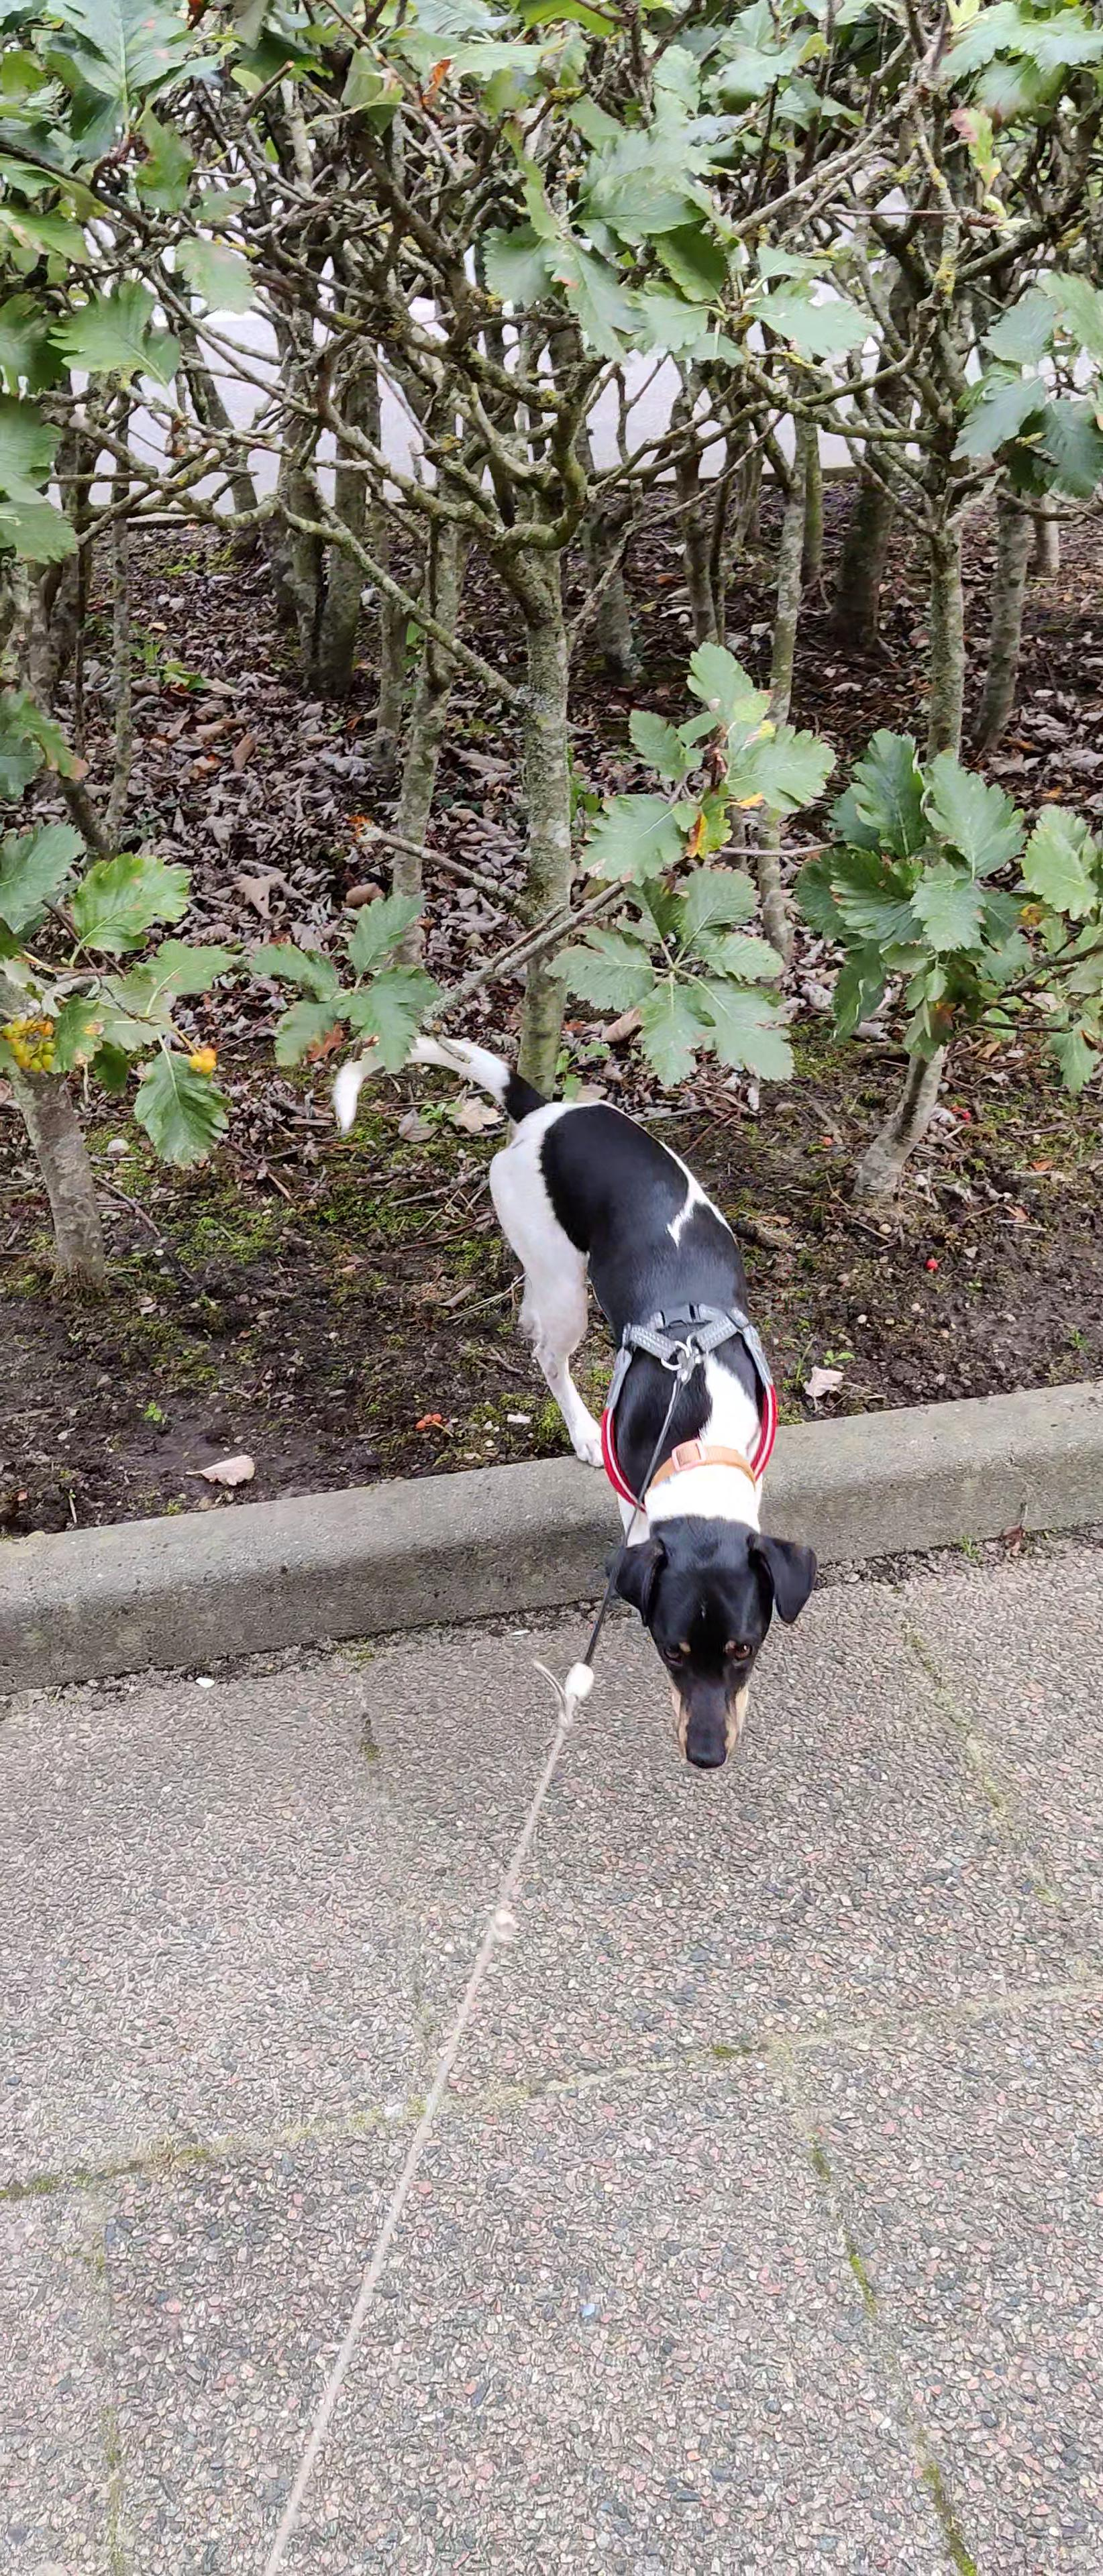Dog: (322, 1010, 827, 1778)
